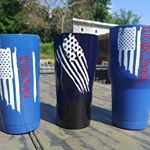cups: (50, 28, 98, 132), (107, 24, 150, 131), (1, 32, 42, 136)
